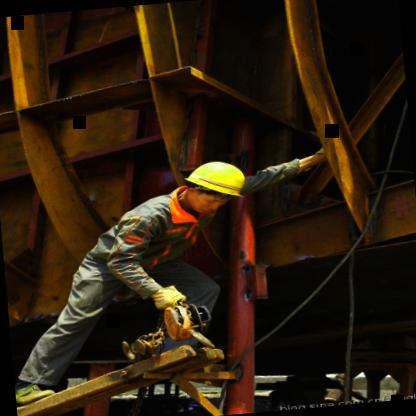helmet: (171, 152, 251, 222)
